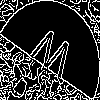W: (25, 25, 76, 88)
